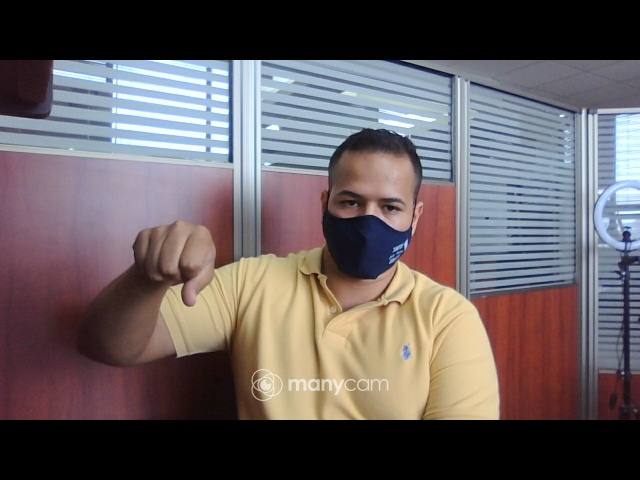Yes: (128, 220, 225, 309)
